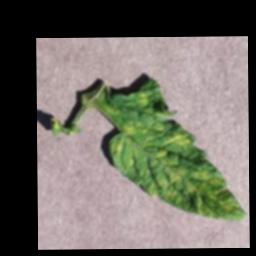Leaf_Mold: (107, 77, 246, 221)
